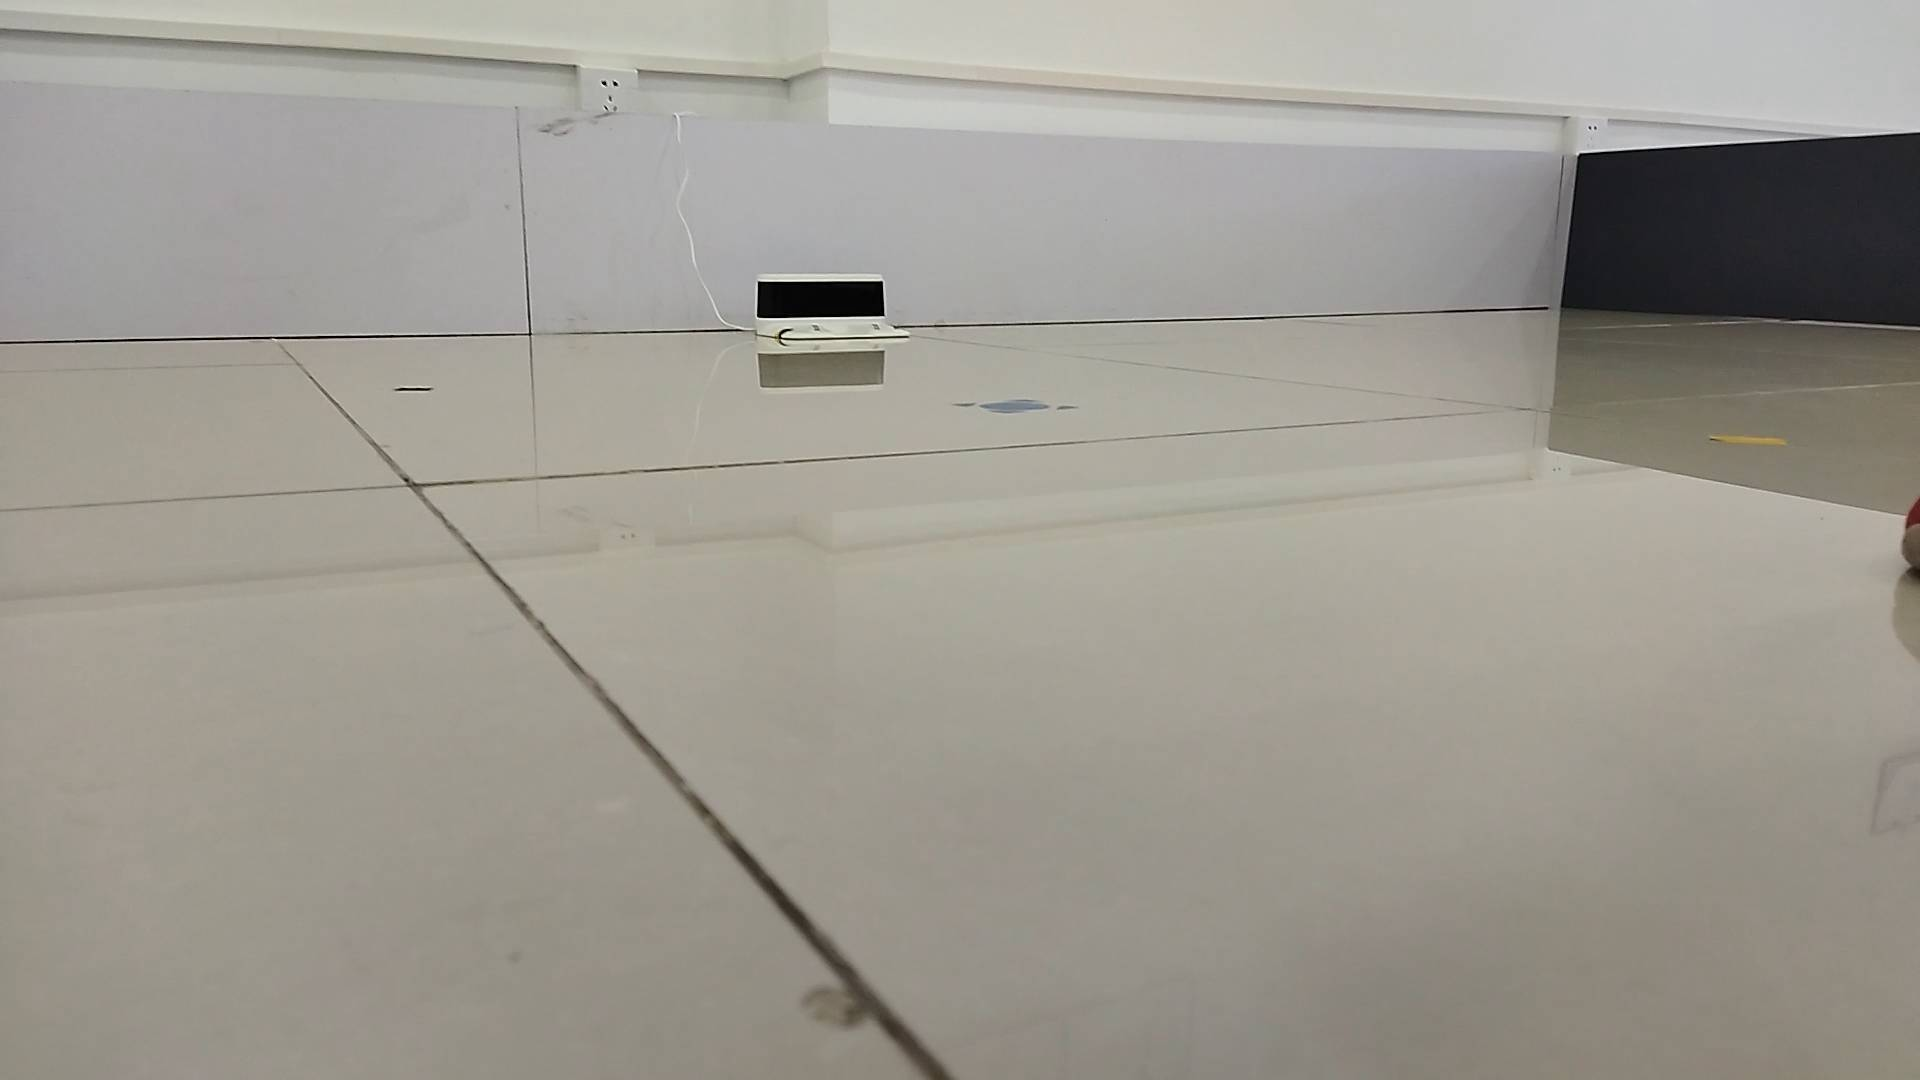recharge seat: (749, 276, 913, 348)
